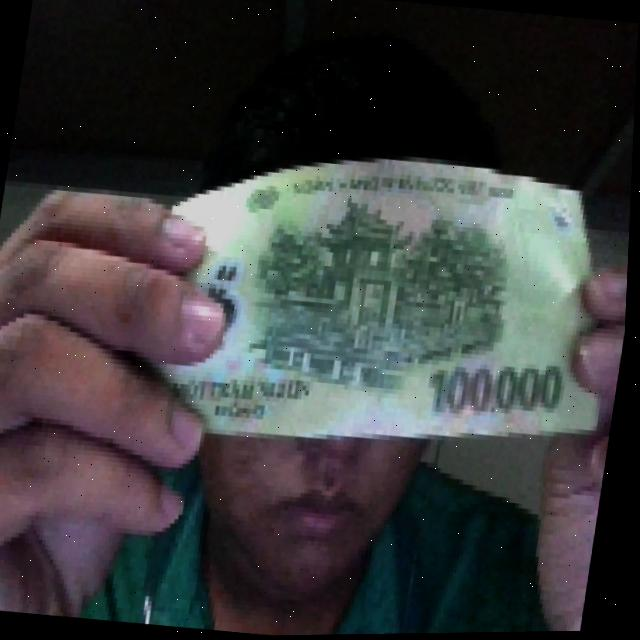100 000 VND: (127, 125, 635, 480)
